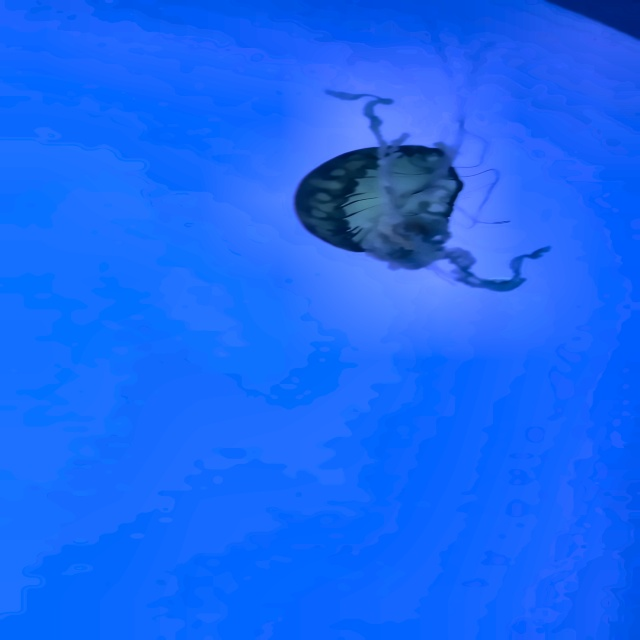jellyfish: (290, 142, 462, 270)
